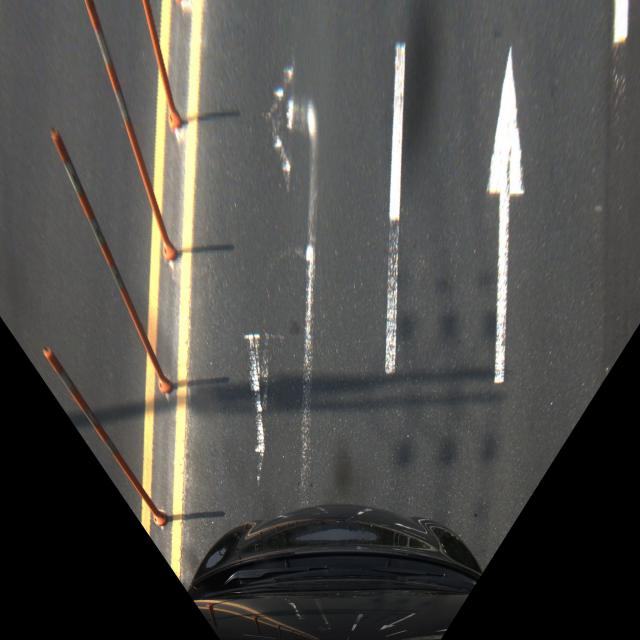left: (196, 41, 406, 277)
